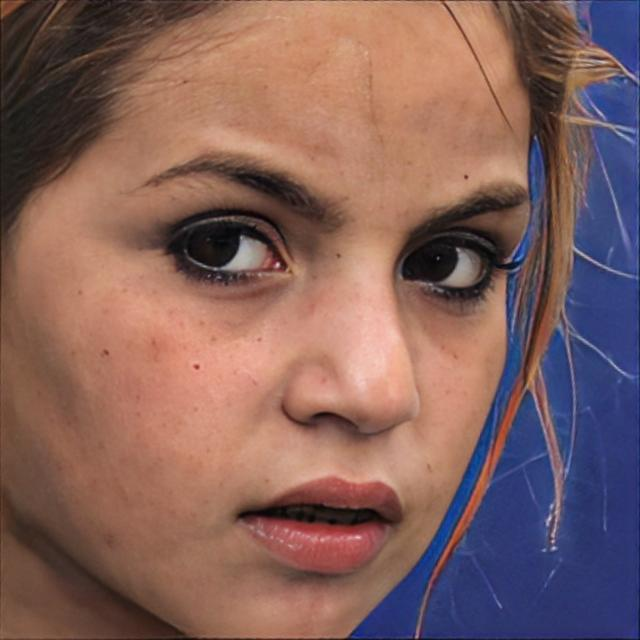disgust: (0, 0, 532, 638)
